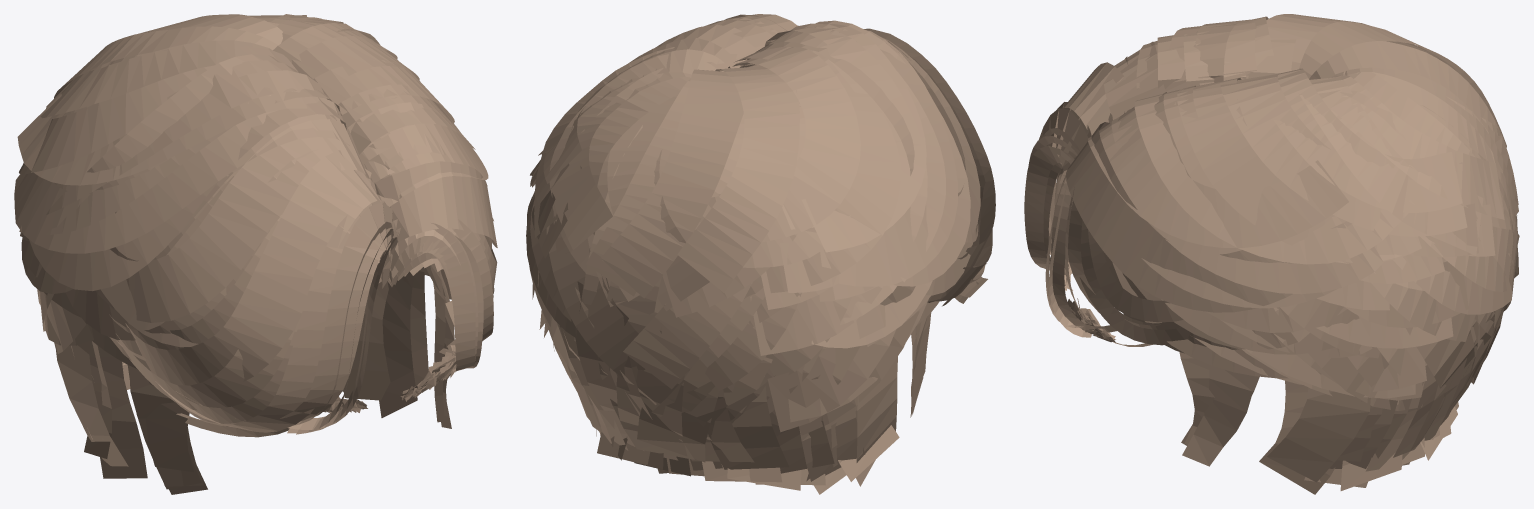
File: male_hair_09_lod0.glb
3 renders of one model, left to right at view 1: azimuth 30°, elevation 25°; view 2: azimuth 150°, elevation 25°; view 3: azimuth 270°, elevation 25°, orthographic. The views are drawn at different scales.
Parts seen in each view (by area): view 1: hair_09; view 2: hair_09; view 3: hair_09.
Boxes of the visible parts, x1,y1,x2,y2 form: hair_09: [14, 14, 497, 494]; hair_09: [526, 14, 995, 494]; hair_09: [1024, 14, 1519, 494].
Bounding box in the file's own units: 0.195 × 0.1937 × 0.2207.
